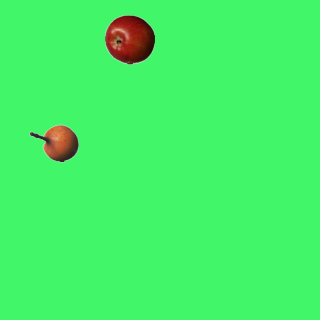Apple Braeburn: (104, 14, 154, 64)
Granadilla: (28, 118, 78, 168)
